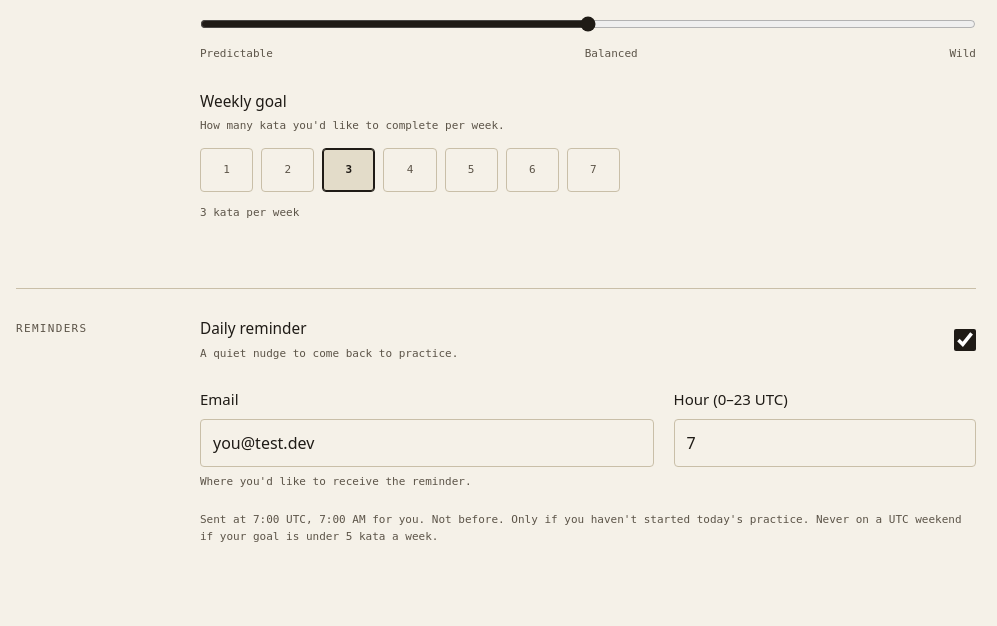
SettingsPage › reminder fields › never turns an emptied hour into midnight
(page scrolled)
Clear the number field labelled "Hour (0–23 UTC)" at point(825, 443), box [674, 419, 976, 467]
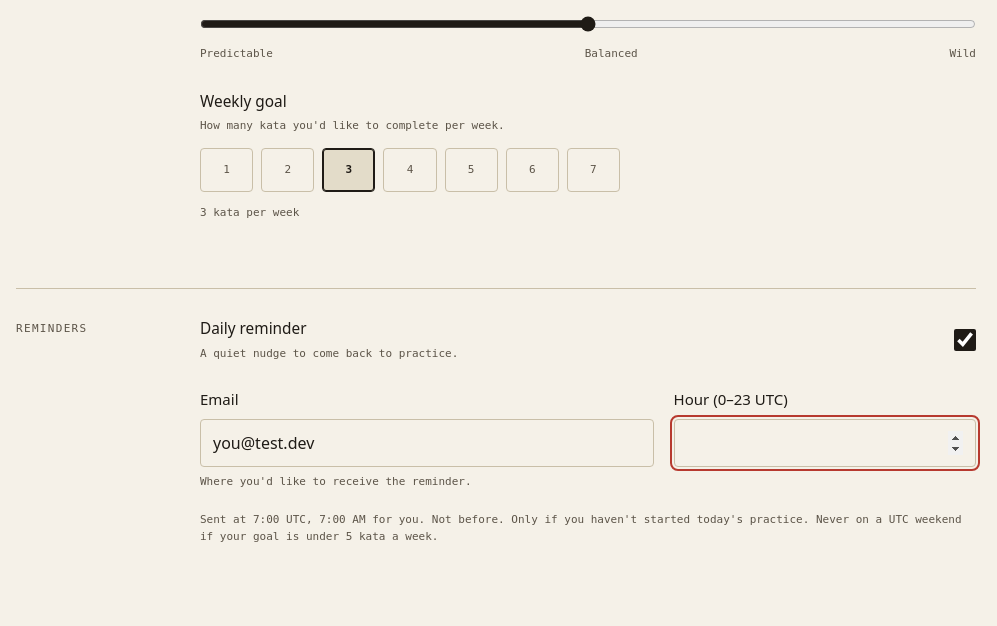
Press Tab
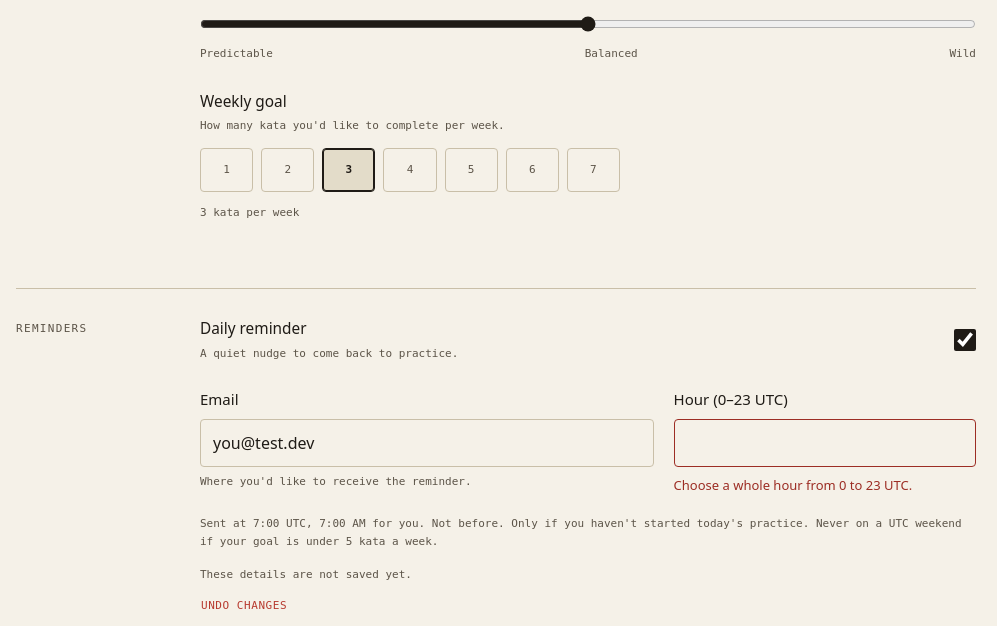
Expected: the text "Choose a whole hour from 0 to 23 UTC." is shown, [674, 476, 912, 494]
